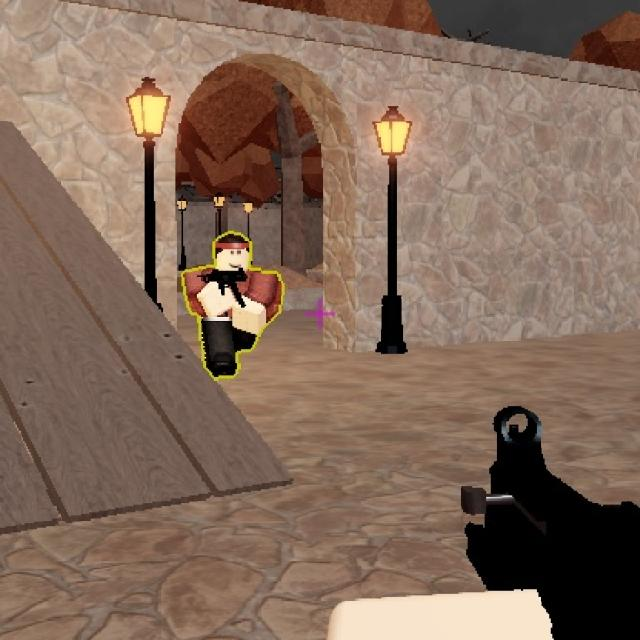player: (196, 225, 262, 368)
